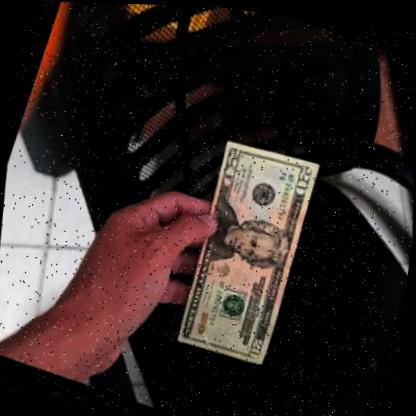twenty-front: (151, 119, 336, 378)
